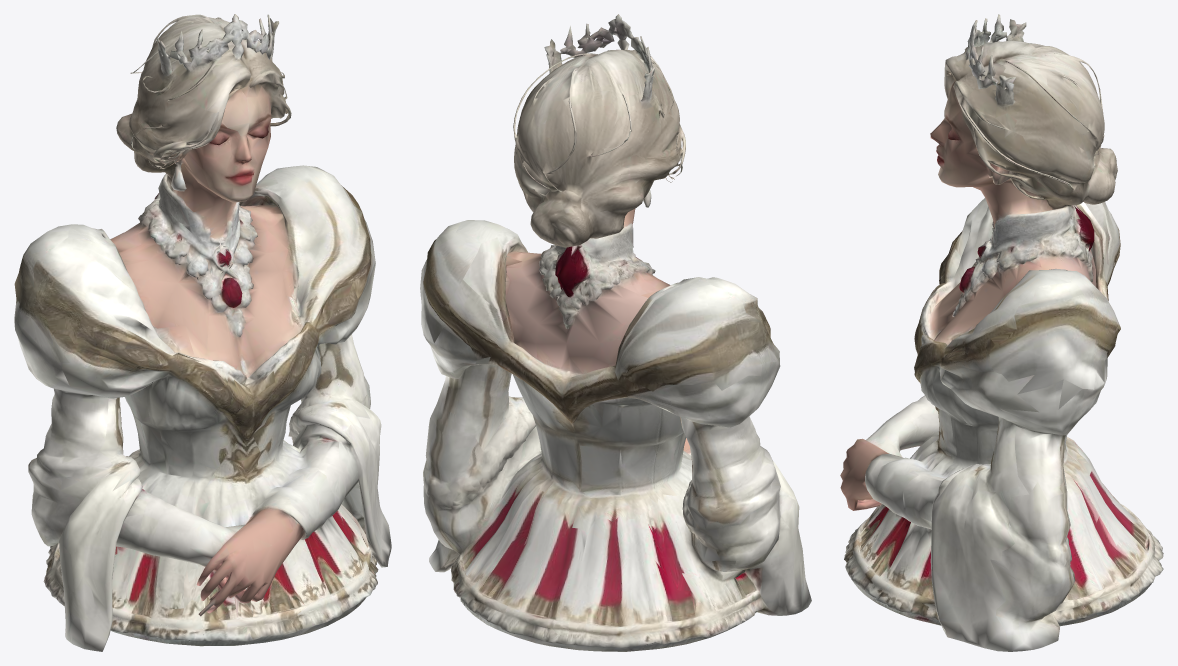
The model's file is ivory-queen.glb.
The picture shows the model from 3 angles, left to right: view 1: azimuth 30°, elevation 25°; view 2: azimuth 150°, elevation 25°; view 3: azimuth 270°, elevation 25°; orthographic projection. The views are drawn at different scales.
Parts seen in each view (by area): view 1: mesh_node; view 2: mesh_node; view 3: mesh_node.
Part boxes in pixels (x1,y1,x2,y2): mesh_node: [14, 14, 391, 651]; mesh_node: [420, 14, 811, 651]; mesh_node: [840, 14, 1163, 651].
Size of the model in its own units: 1.22 by 1.9 by 1.01.
1 material, 1 textured.
